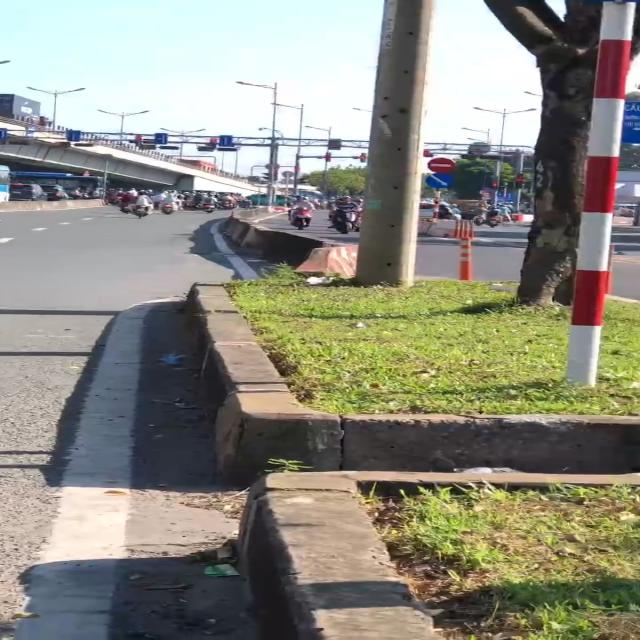Bien bao cam di nguoc chieu: (426, 154, 460, 174)
Bien bao huong phai di vong chuong ngai vat: (425, 172, 455, 190)
